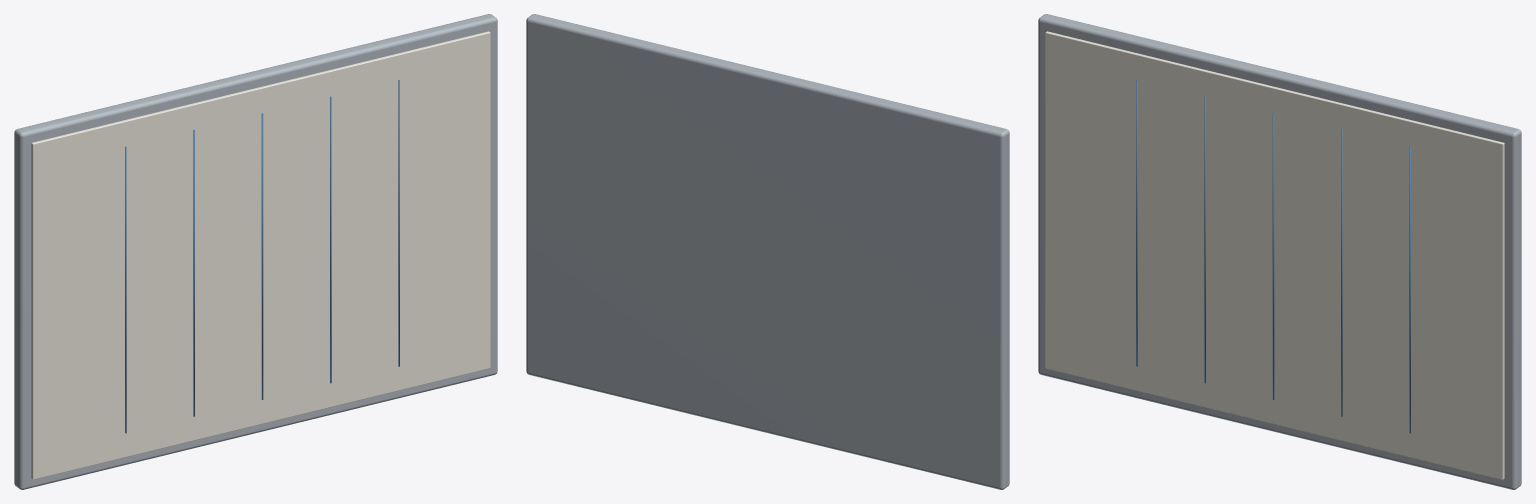
The model's file is atelier-wall-calendar.glb.
The picture shows the model from 3 angles, left to right: view 1: azimuth 30°, elevation 25°; view 2: azimuth 150°, elevation 25°; view 3: azimuth 330°, elevation 25°; orthographic projection.
Parts seen in each view (by area): view 1: ceramic.117, steel.046, artBlue.026; view 2: steel.046; view 3: ceramic.117, steel.046, artBlue.026.
Part boxes in pixels (x1,y1,x2,y2): ceramic.117: [31, 31, 490, 479]; steel.046: [14, 14, 497, 489]; artBlue.026: [125, 80, 399, 433]; steel.046: [526, 14, 1009, 489]; ceramic.117: [1045, 31, 1504, 479]; steel.046: [1038, 14, 1521, 489]; artBlue.026: [1136, 80, 1410, 433].
Bounding box in the file's own units: 1.4 × 1 × 0.055.
